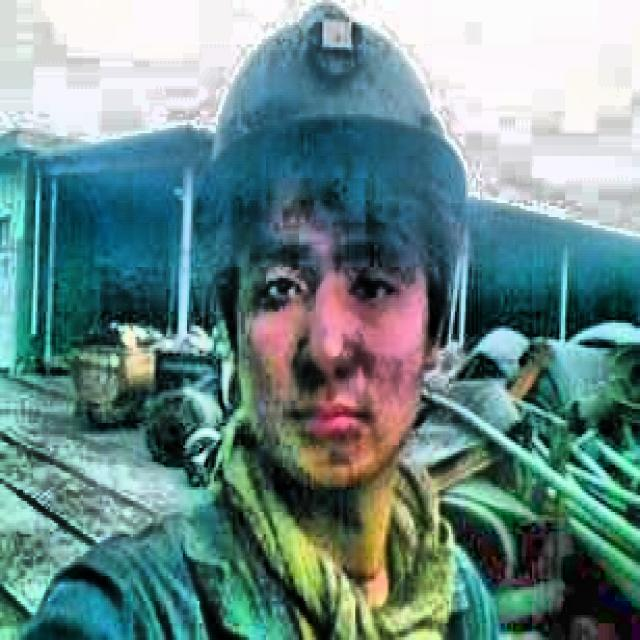helmet: (164, 0, 484, 534)
